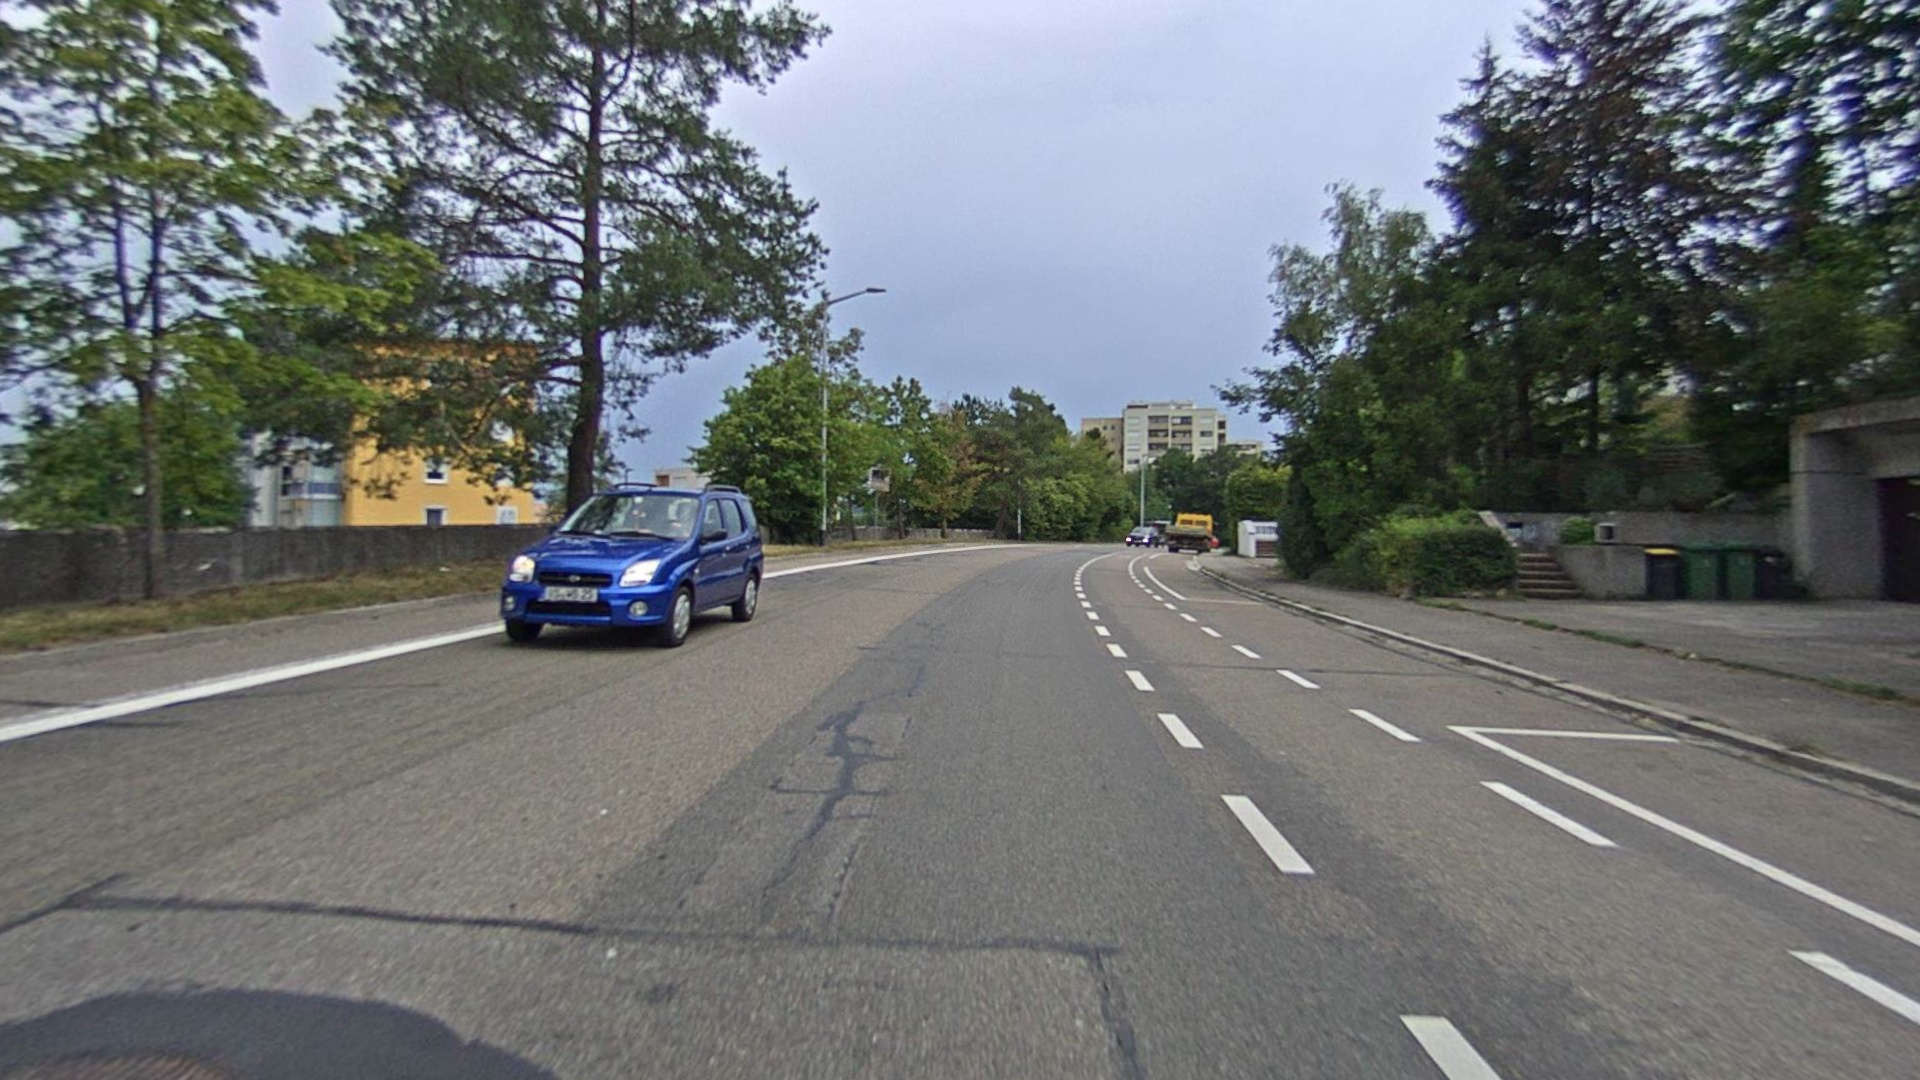car: (497, 481, 767, 651)
